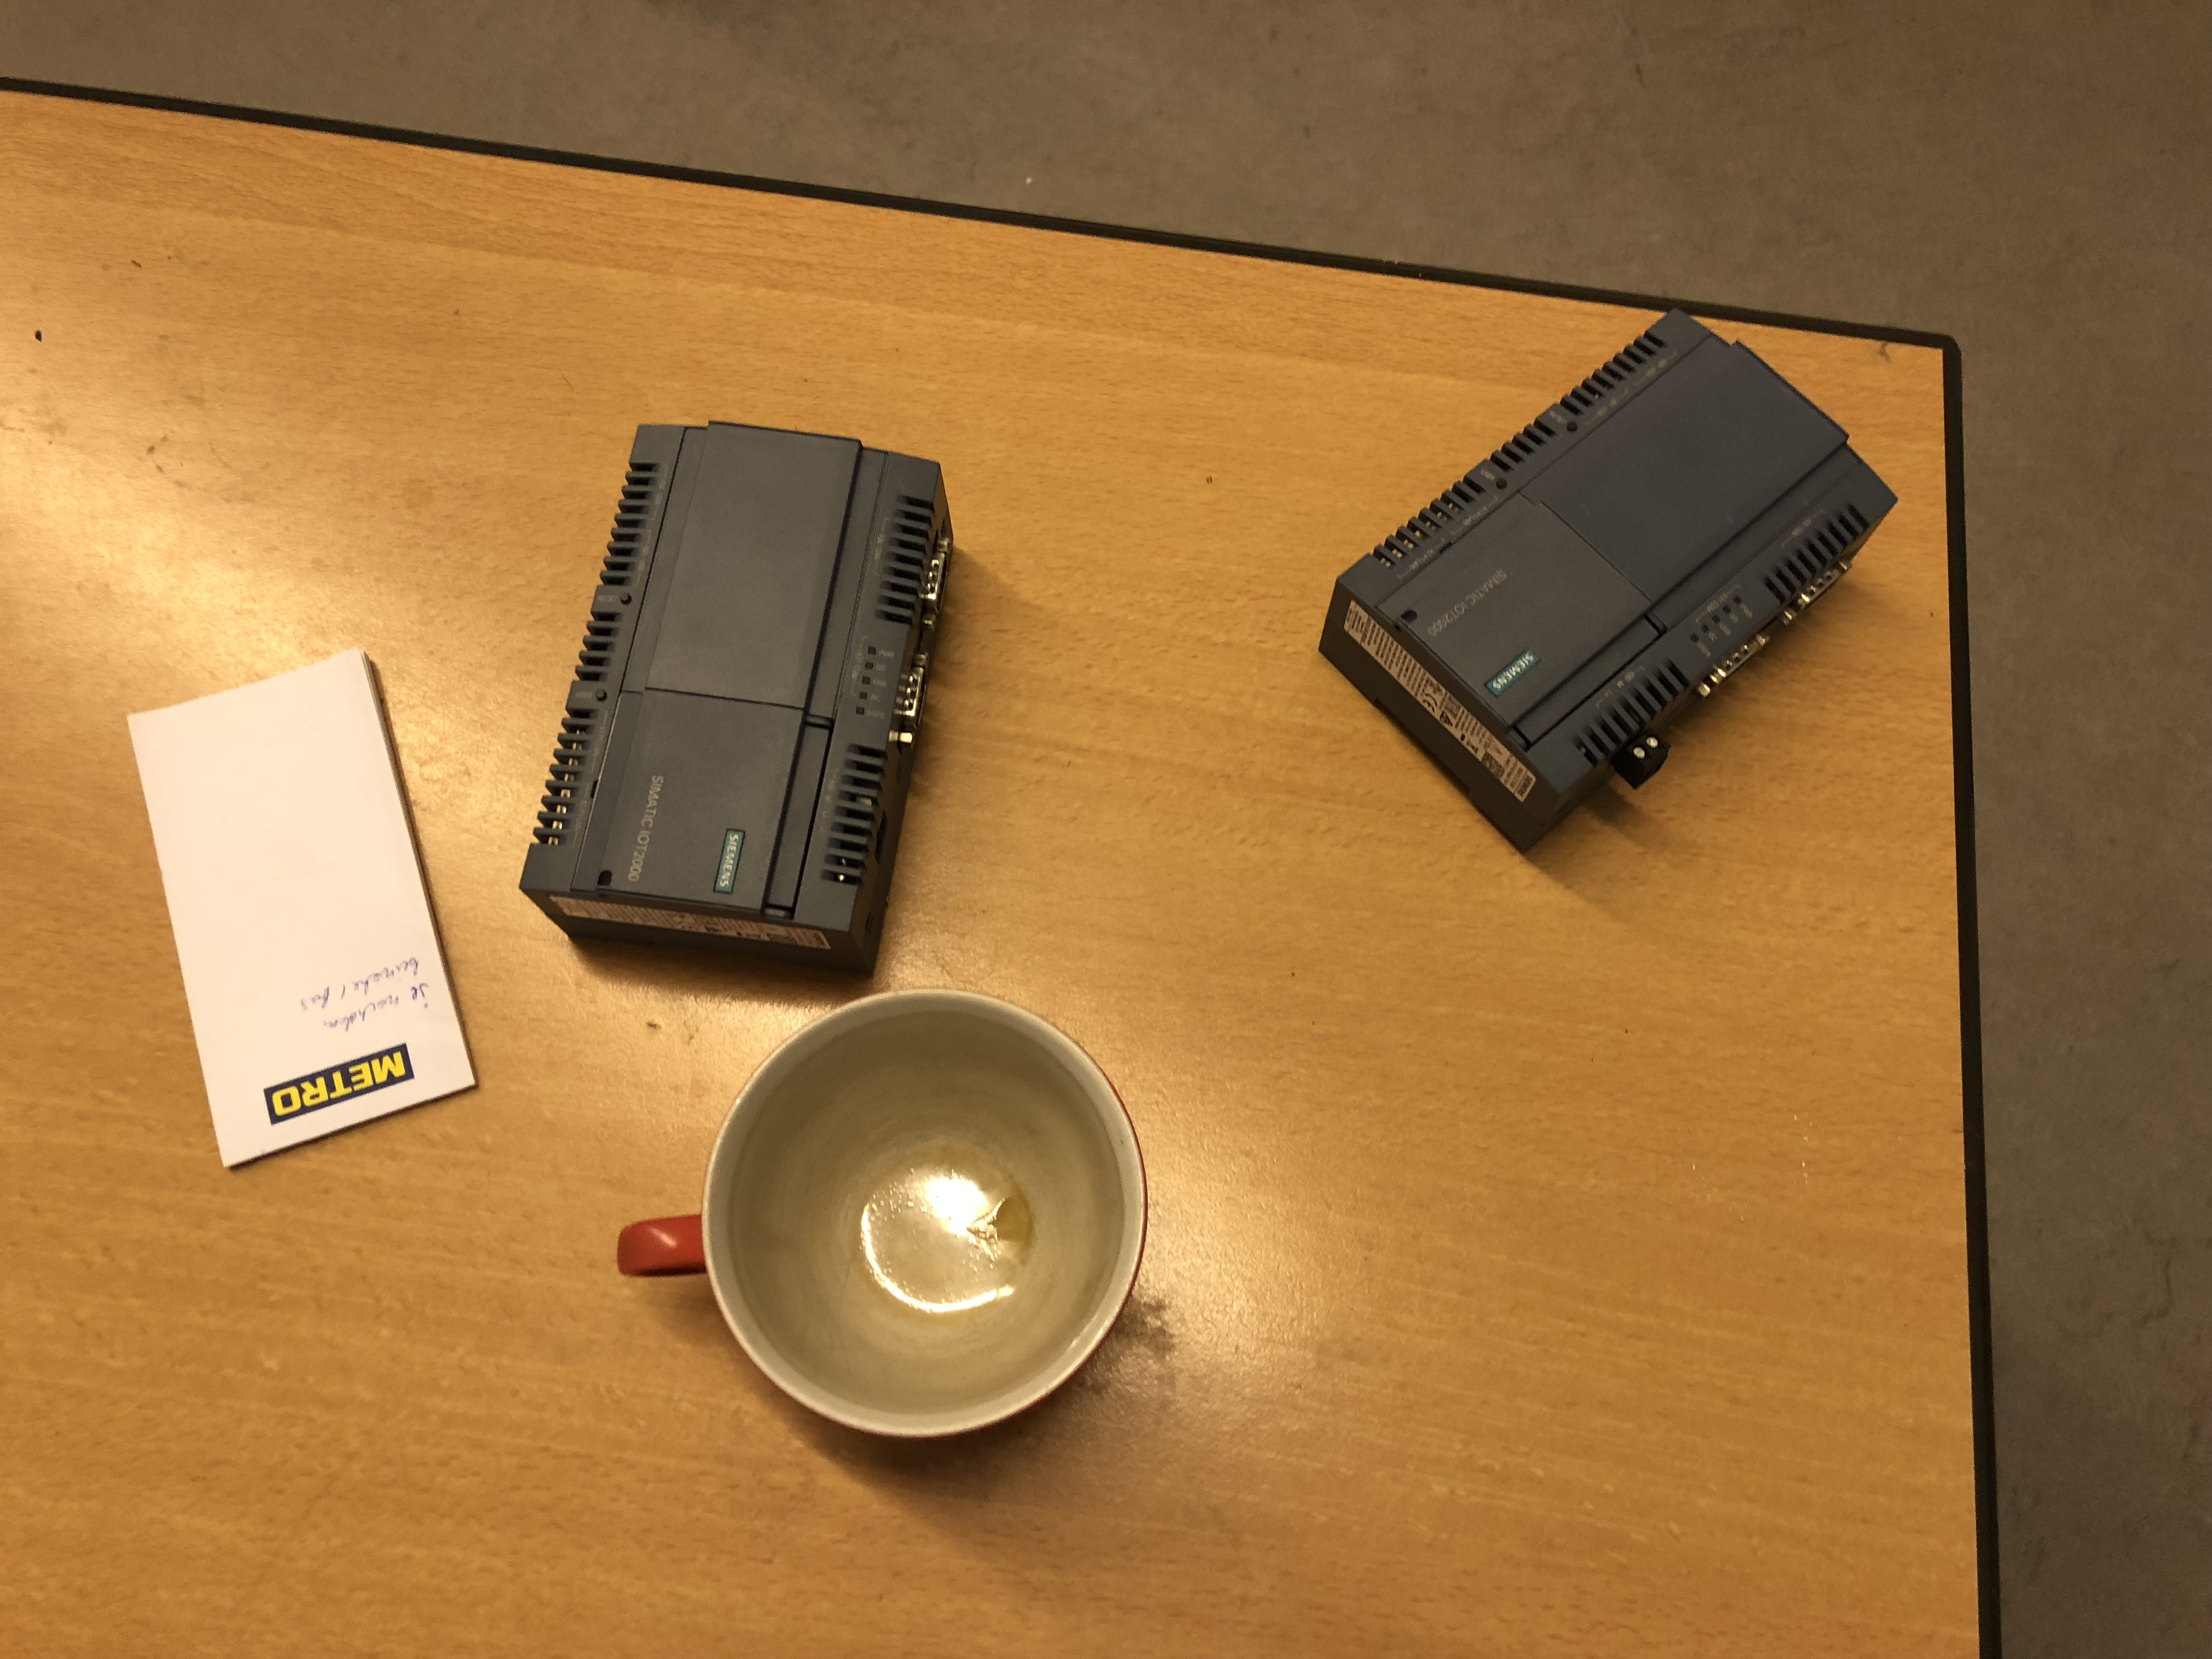device: (1318, 308, 1898, 856), (519, 418, 954, 978)
